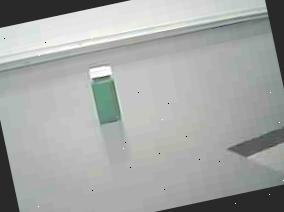Bottle C: (79, 55, 134, 136)
